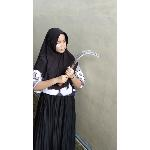Celurit: (55, 48, 102, 90)
